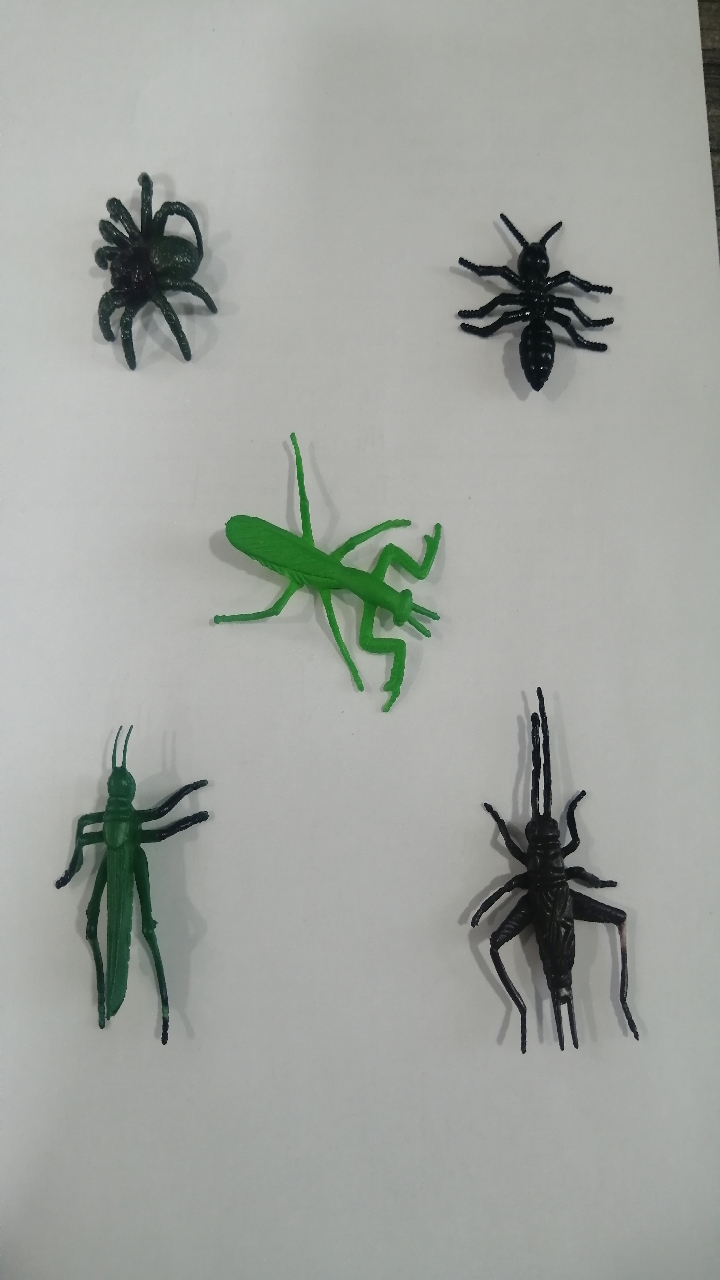intruso: (444, 675, 672, 1077), (169, 415, 458, 722), (18, 711, 226, 1062), (432, 179, 635, 439), (57, 142, 240, 402)
